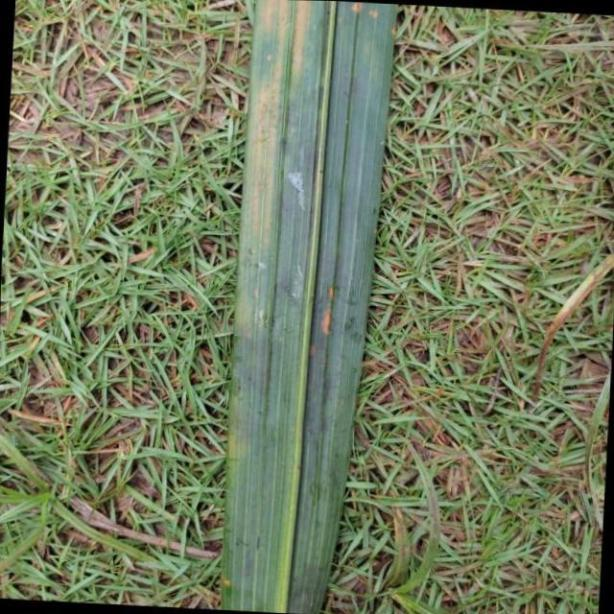Megnesium: (225, 0, 395, 614)
